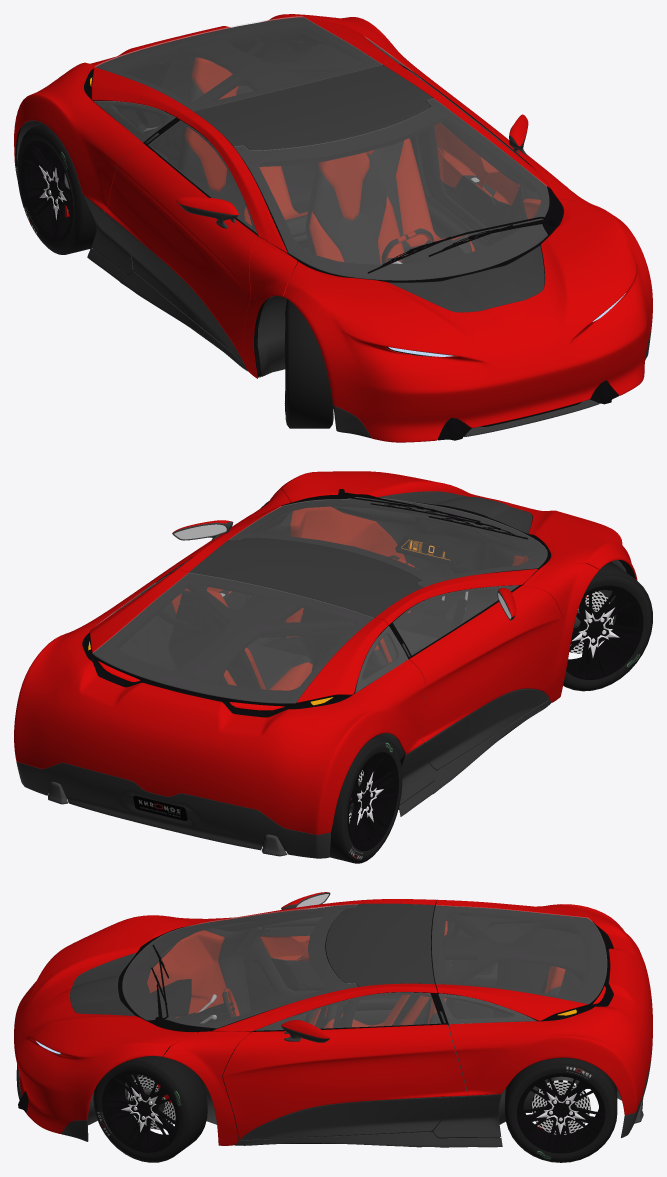
File: concept.glb
3 renders of one model, top to bottom at view 1: azimuth 30°, elevation 25°; view 2: azimuth 150°, elevation 25°; view 3: azimuth 270°, elevation 25°, orthographic. The views are drawn at different scales.
Visible parts, largest first — view 1: BodyHood, BodyWindshield, BodyRearwindow, BodyDoorRColor1, BodyRearPanelsColor1, BodyRoofPanel, BodyWindshieldGasket, InteriorSeatsColor1, InteriorSeatsColor2, BodyPillars, InteriorPillar, InteriorRearHatch (+21 smaller); view 2: BodyRearPanelsColor1, BodyRearwindow, BodyWindshield, BodyDoorRColor1, BodyPanelsColor2, BodyRoofPanel, BodyHood, InteriorRearHatch, BodyPillars, InteriorPillar, BodyWindshieldGasket, InteriorDashMid (+22 smaller); view 3: BodyRearPanelsColor1, BodyWindshield, BodyDoorLColor1, BodyHood, BodyRearwindow, BodyRoofPanel, BodyPillars, BodyWindshieldGasket, BodyDoorLColor2, BodyPanelsColor2, WheelFrontL, InteriorRearHatch (+25 smaller).
Part boxes in pixels (x1,y1,x2,y2): BodyHood: (283, 198, 652, 442); BodyWindshield: (234, 98, 549, 280); BodyRearwindow: (95, 16, 382, 110); BodyDoorRColor1: (104, 143, 257, 362); BodyRearPanelsColor1: (14, 14, 428, 210); BodyRoofPanel: (193, 65, 432, 150); BodyWindshieldGasket: (234, 99, 563, 282); InteriorSeatsColor1: (185, 57, 475, 264); InteriorSeatsColor2: (180, 78, 472, 264); BodyPillars: (176, 61, 598, 378); InteriorPillar: (158, 37, 434, 168); InteriorRearHatch: (93, 17, 383, 117); BodyRearPanelsColor1: (14, 569, 425, 834); BodyRearwindow: (92, 573, 373, 703); BodyWindshield: (229, 497, 547, 587); BodyDoorRColor1: (409, 585, 562, 742); BodyPanelsColor2: (16, 700, 550, 858); BodyRoofPanel: (189, 537, 422, 617); BodyHood: (279, 471, 637, 580); InteriorRearHatch: (93, 573, 386, 707); BodyPillars: (175, 489, 599, 702); InteriorPillar: (174, 574, 417, 682); BodyWindshieldGasket: (230, 497, 550, 587); InteriorDashMid: (331, 502, 528, 622); BodyRearPanelsColor1: (436, 899, 652, 1115); BodyWindshield: (122, 904, 357, 1028); BodyDoorLColor1: (222, 1024, 467, 1139); BodyHood: (14, 915, 196, 1133); BodyRearwindow: (432, 905, 606, 1003); BodyRoofPanel: (326, 903, 434, 986); BodyPillars: (163, 899, 437, 1145); BodyWindshieldGasket: (118, 905, 357, 1032); BodyDoorLColor2: (240, 1096, 467, 1140); BodyPanelsColor2: (16, 1050, 652, 1147); WheelFrontL: (93, 1054, 207, 1162); InteriorRearHatch: (431, 905, 606, 1020).
Bounding box in the file's own units: 2.54 × 1.15 × 4.36.
Materials: 23 (6 with a texture image).
